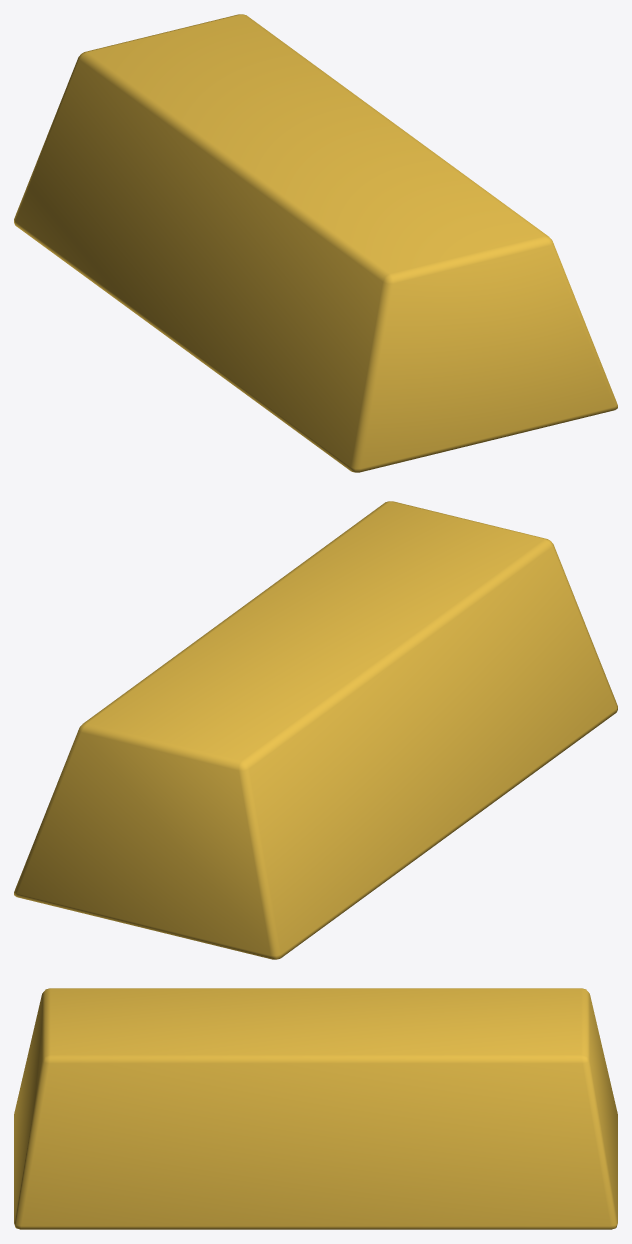
Rendered from Itemsglb.glb.
The picture shows the model from 3 angles, top to bottom: view 1: azimuth 30°, elevation 25°; view 2: azimuth 150°, elevation 25°; view 3: azimuth 270°, elevation 25°; orthographic projection. The views are drawn at different scales.
Visible parts, largest first — view 1: Goldbar; view 2: Goldbar; view 3: Goldbar.
Part boxes in pixels (x1,y1,x2,y2): Goldbar: (14,14,617,472); Goldbar: (14,501,617,959); Goldbar: (14,988,617,1229).
Size of the model in its own units: 0.3204 by 0.2 by 0.7174.
